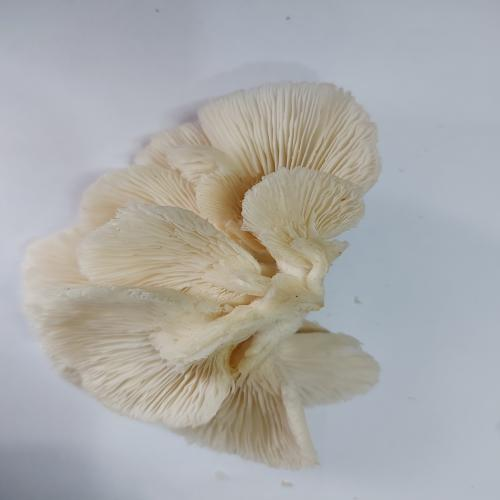Oyster Mushroom: (21, 80, 383, 471)
